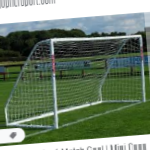goals: (3, 33, 147, 131)
